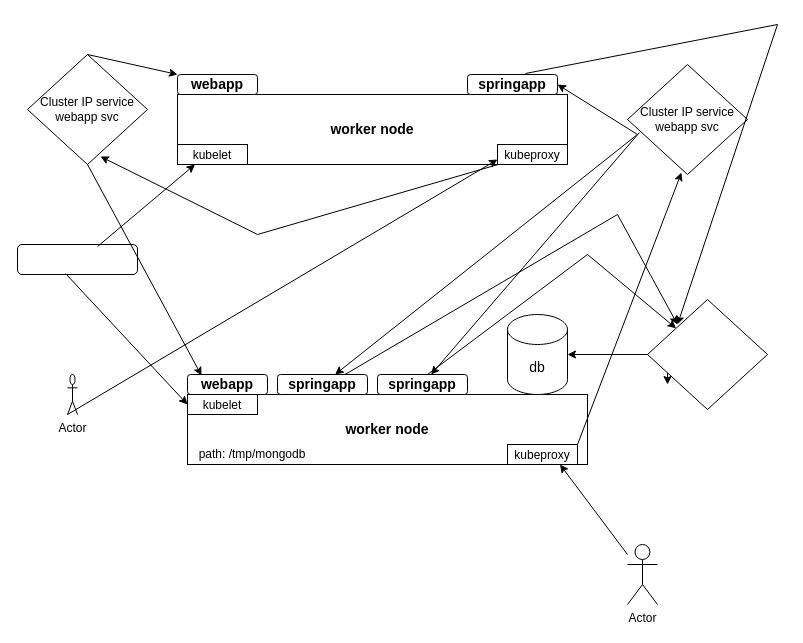
The diagram is 803 pixels wide and 643 high, and some of its shapes have lost their labels. The shapes that lost their labels are listed below. From the top down, each one's box as (x1, y1, x2, y2) in pixels, then its label:
(16, 244, 138, 274): Master
(646, 298, 768, 410): Cluster IP service mongo svc
